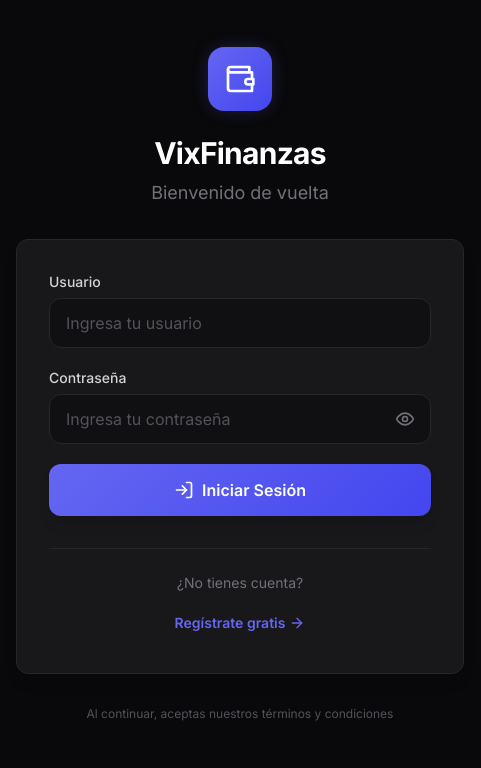
Test case: FinanzasPro - Suite de Pruebas E2E › 2. Autenticación - Login con Credenciales Inválidas › Debe mostrar mensaje de error con credenciales incorrectas
Type "usuarioInexistente" into the field with placeholder "Ingresa tu usuario" at [240, 323], box [49,298,431,348]
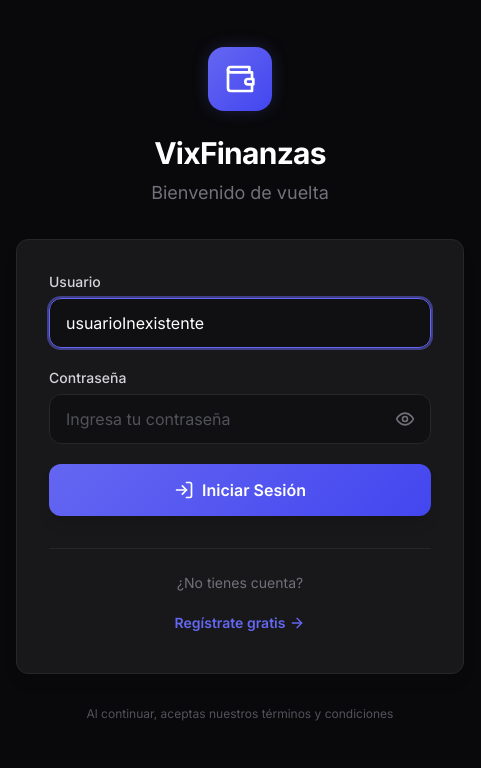
Type "passwordIncorrecto" into the password field with placeholder "Ingresa tu contraseña" at [240, 419], box [49,394,431,444]
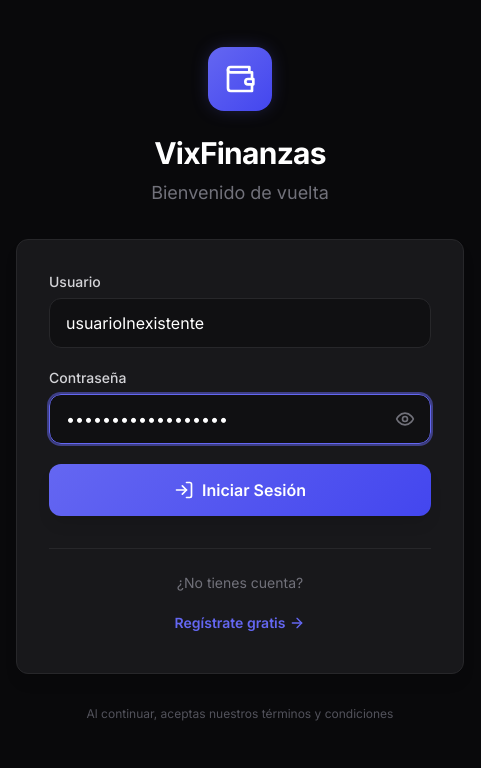
Click the button "Iniciar Sesión" at [240, 490], box [49,464,431,516]
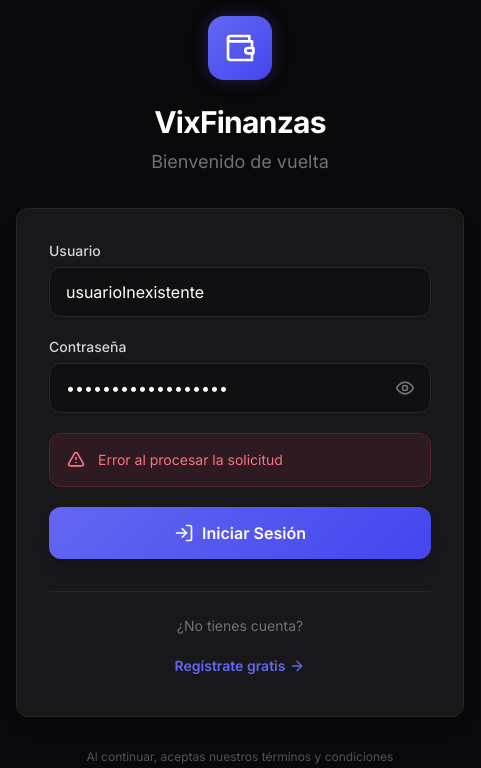
Check: the element showing "Error al procesar la solicitud" is shown, box [49,433,431,487]
